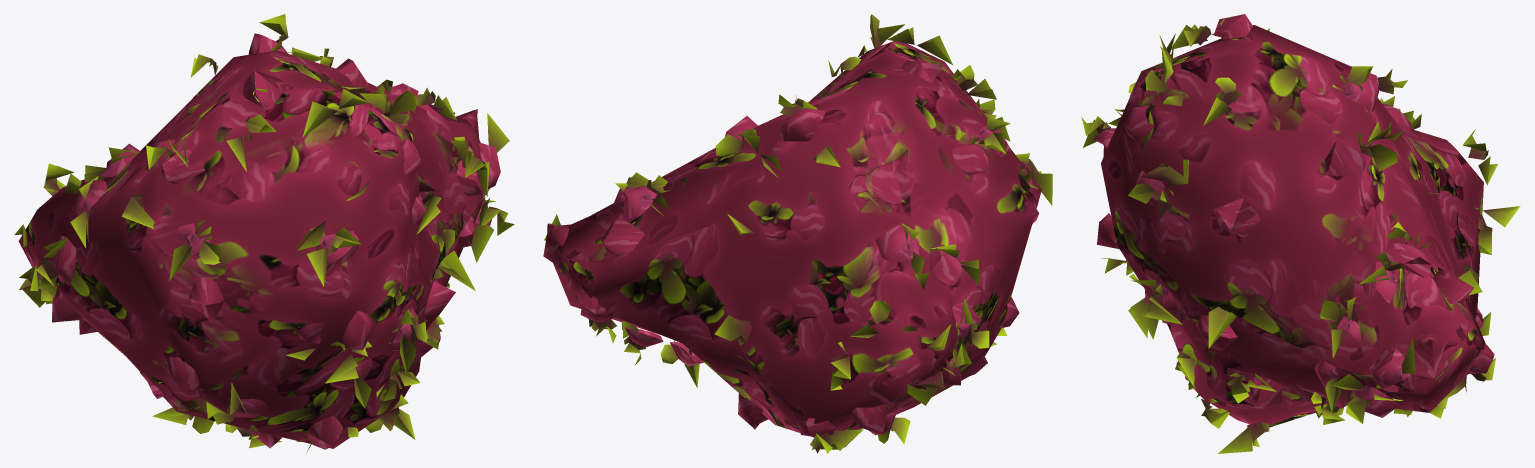
File: env_building_redbeetpile_lod2.fbx
3 views of the same model, side by side, from view 1: azimuth 30°, elevation 25°; view 2: azimuth 150°, elevation 25°; view 3: azimuth 270°, elevation 25° (orthographic). The views are drawn at different scales.
Parts seen in each view (by area): view 1: env_building_redbeetpile_lod2; view 2: env_building_redbeetpile_lod2; view 3: env_building_redbeetpile_lod2.
Part boxes in pixels (box(x1,y1,x2,y2)): env_building_redbeetpile_lod2: box(14, 14, 514, 452); env_building_redbeetpile_lod2: box(543, 14, 1052, 453); env_building_redbeetpile_lod2: box(1081, 14, 1520, 453).
Bounding box in the file's own units: 19.67 × 15.35 × 16.24.
